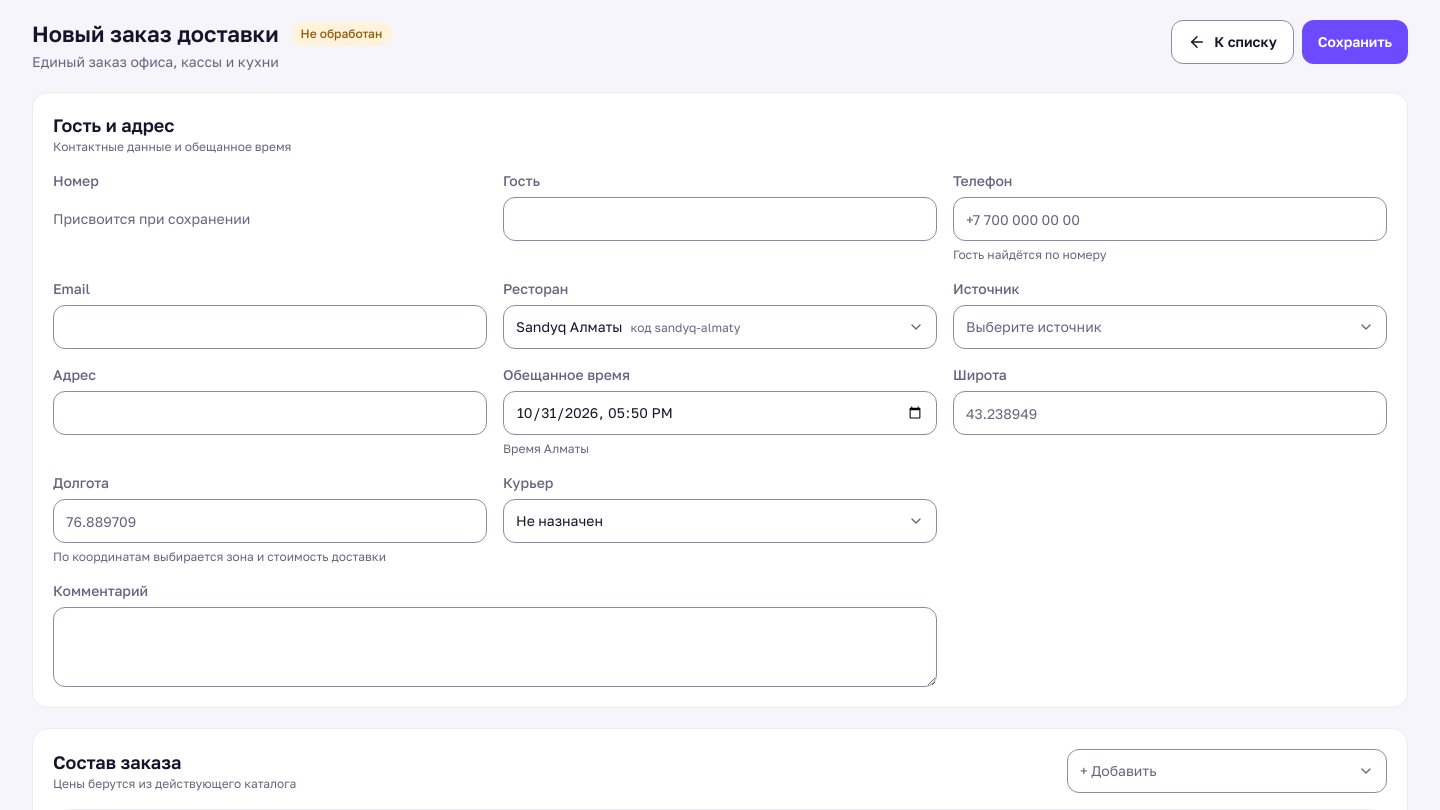
Test: order card: size and modifiers, masked phone, courier (W2-DLV-05) › restaurants with the same name are told apart by their code
Click the dropdown named "Ресторан": click(720, 327) 503,305 -> 937,349
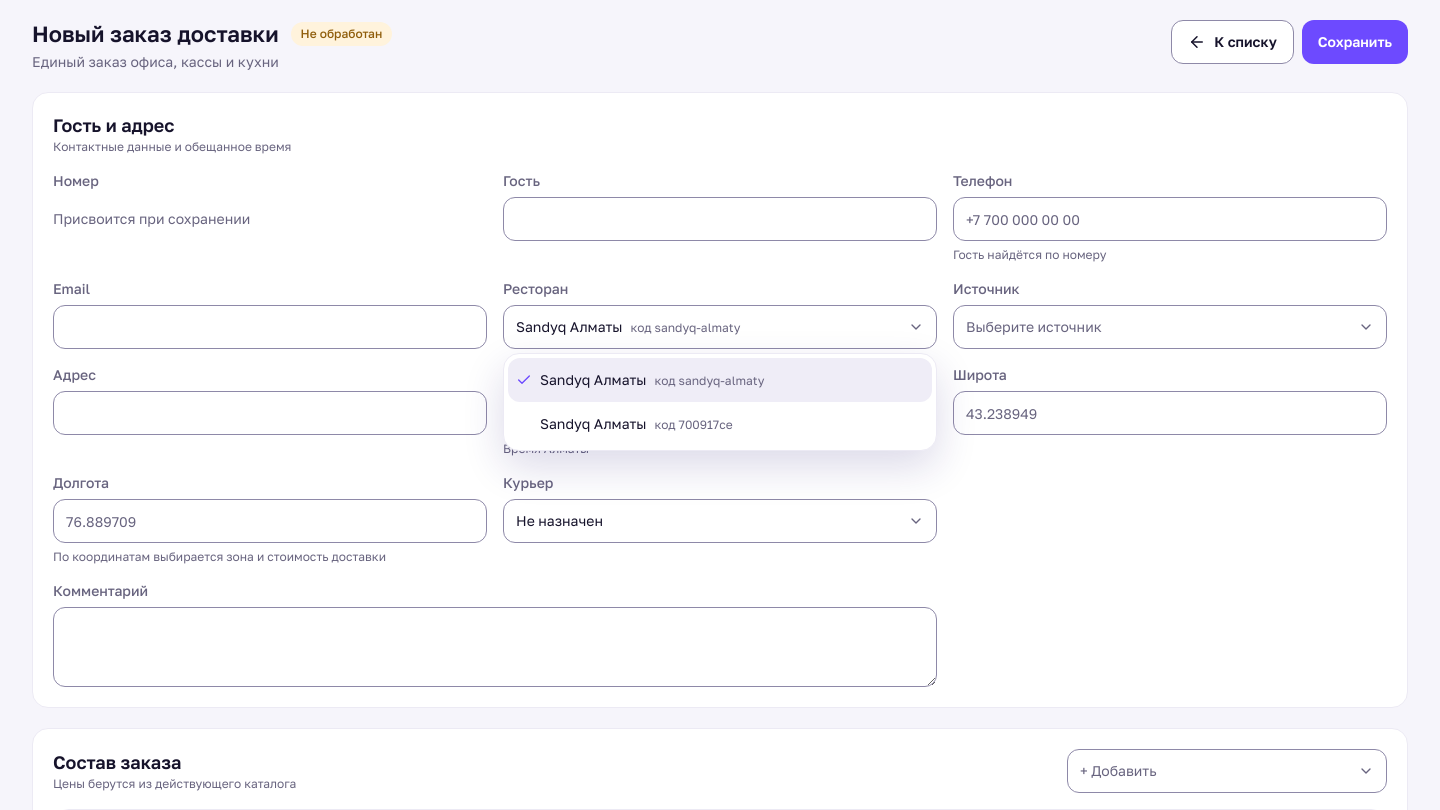
Result: the options read "Sandyq Алматыкод sandyq-almaty", "Sandyq Алматыкод 700917ce", in this order at 508,358 -> 932,402; 540,415 -> 733,432
